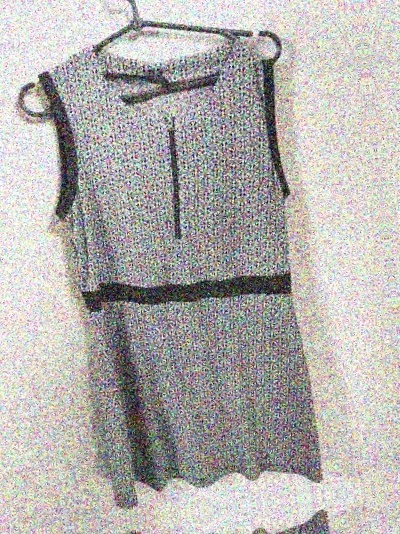Dress: (28, 3, 373, 520), (90, 496, 400, 534)
